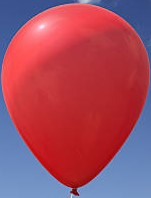Balloon: (1, 3, 151, 188)
